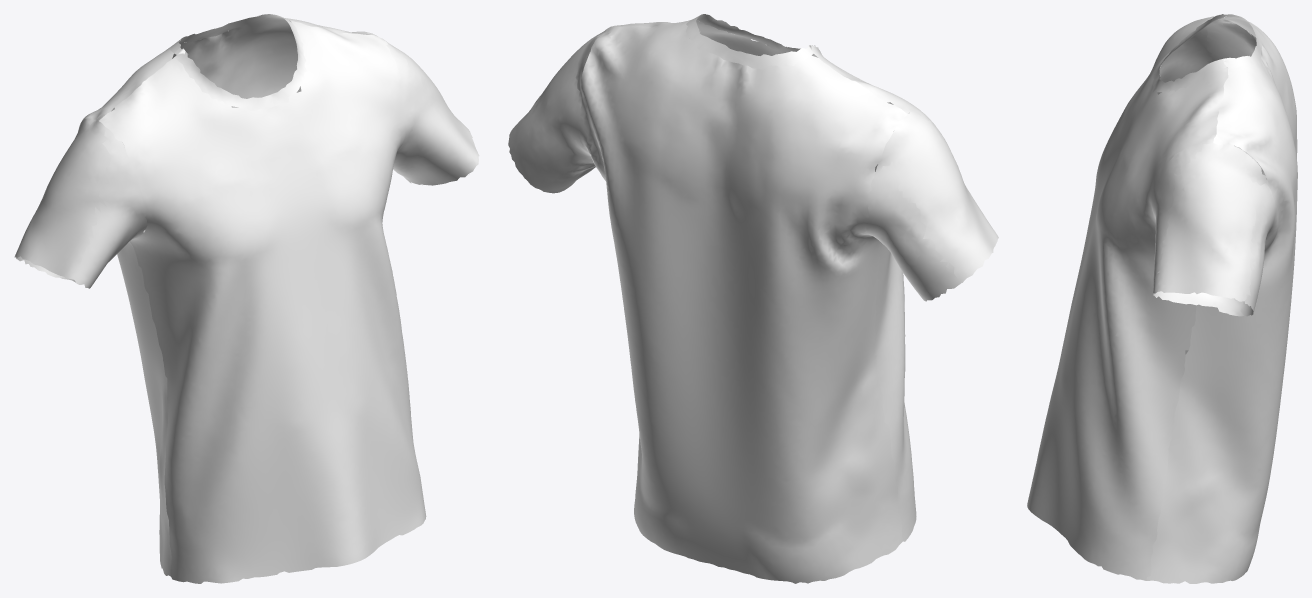
The model's file is playera.glb.
3 views of the same model, side by side, from view 1: azimuth 30°, elevation 25°; view 2: azimuth 150°, elevation 25°; view 3: azimuth 270°, elevation 25° (orthographic). The views are drawn at different scales.
Parts seen in each view (by area): view 1: playera; view 2: playera; view 3: playera.
Boxes of the visible parts, x1,y1,x2,y2 form: playera: (14,14,479,583); playera: (508,14,998,583); playera: (1027,14,1297,583).
Size of the model in its own units: 0.6517 by 0.71 by 0.3439.
1 material, 1 textured.
